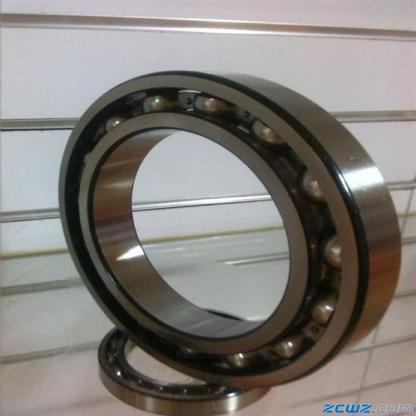FOD: (57, 63, 408, 392), (92, 308, 279, 416)
